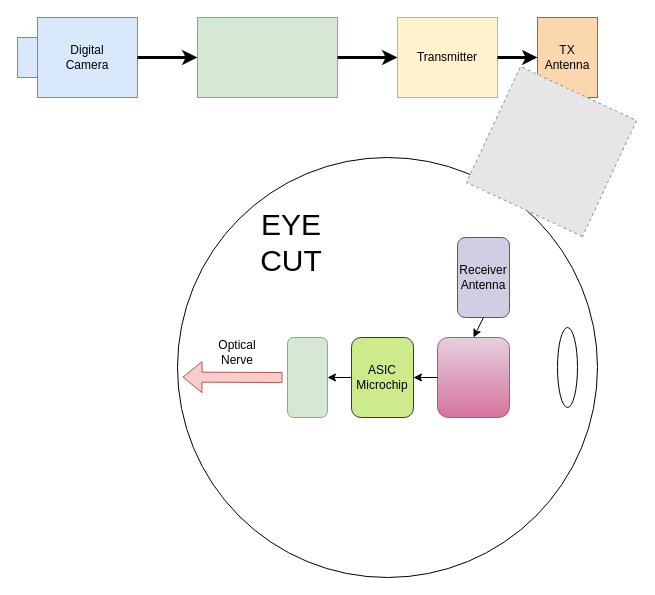
The diagram is 655 pixels wide and 595 high, and some of its shapes have lost their labels. Grey dashed boxes stand in for pictures. The shapes that lost their labels are listed below. From the top down, each one's box as (x1, y1, x2, y2) in pixels, then its label:
(196, 16, 338, 98): Processor
(286, 336, 328, 418): Electrodes
(436, 336, 510, 418): Receiver
